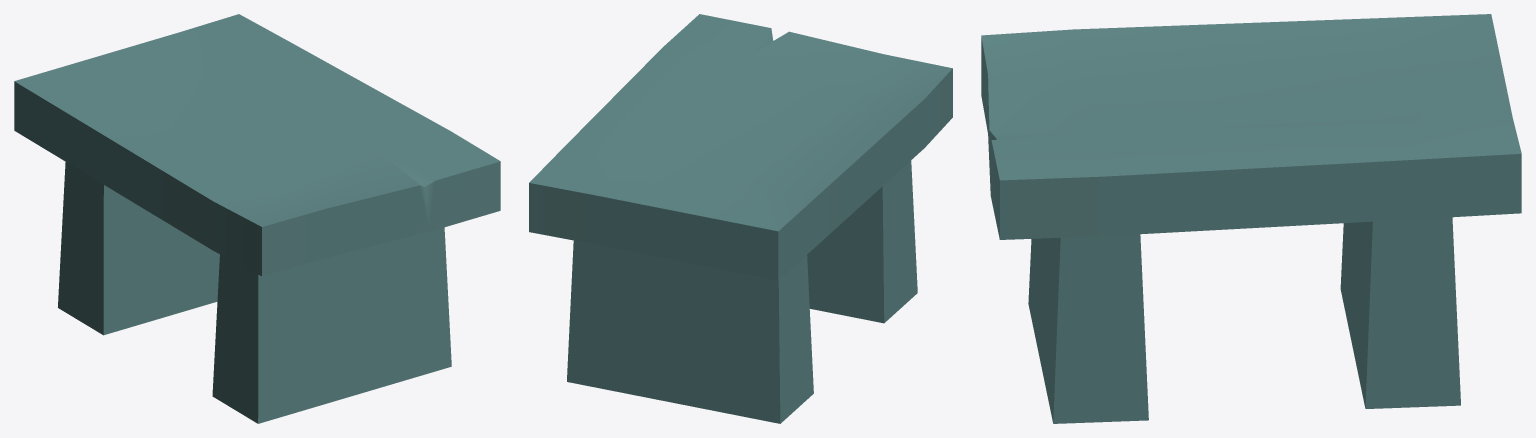
File: Bathroom_Stool.fbx
The picture shows the model from 3 angles, left to right: view 1: azimuth 30°, elevation 25°; view 2: azimuth 150°, elevation 25°; view 3: azimuth 270°, elevation 25°; orthographic projection. The views are drawn at different scales.
Visible parts, largest first — view 1: shelf1; view 2: shelf1; view 3: shelf1.
Boxes of the visible parts, x1,y1,x2,y2 form: shelf1: (14, 14, 500, 423); shelf1: (529, 14, 952, 423); shelf1: (981, 14, 1521, 423).
Size of the model in its own units: 3.58 by 2.6 by 4.91.
